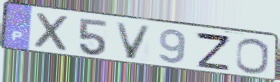5: (77, 16, 109, 57)
9: (157, 28, 188, 66)
O: (234, 37, 271, 75)
V: (113, 21, 154, 61)
X: (34, 11, 72, 53)
Z: (195, 31, 232, 72)
